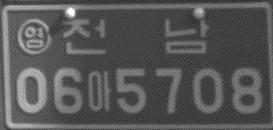0: (15, 66, 48, 114), (191, 66, 223, 114)
5: (114, 67, 147, 115)
6: (52, 66, 84, 115)
7: (153, 66, 183, 114)
8: (230, 66, 263, 115)
아: (86, 69, 112, 112)
영: (16, 18, 51, 57)
전남_D: (61, 18, 210, 55)
